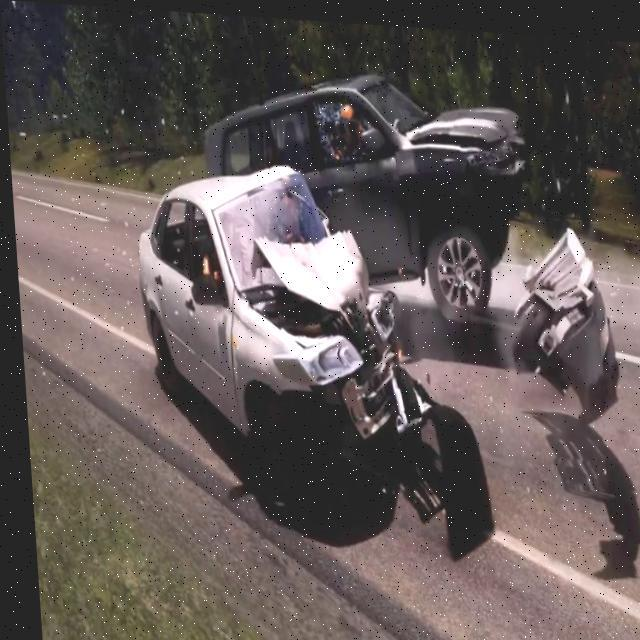multiple_accident: (170, 45, 578, 557)
